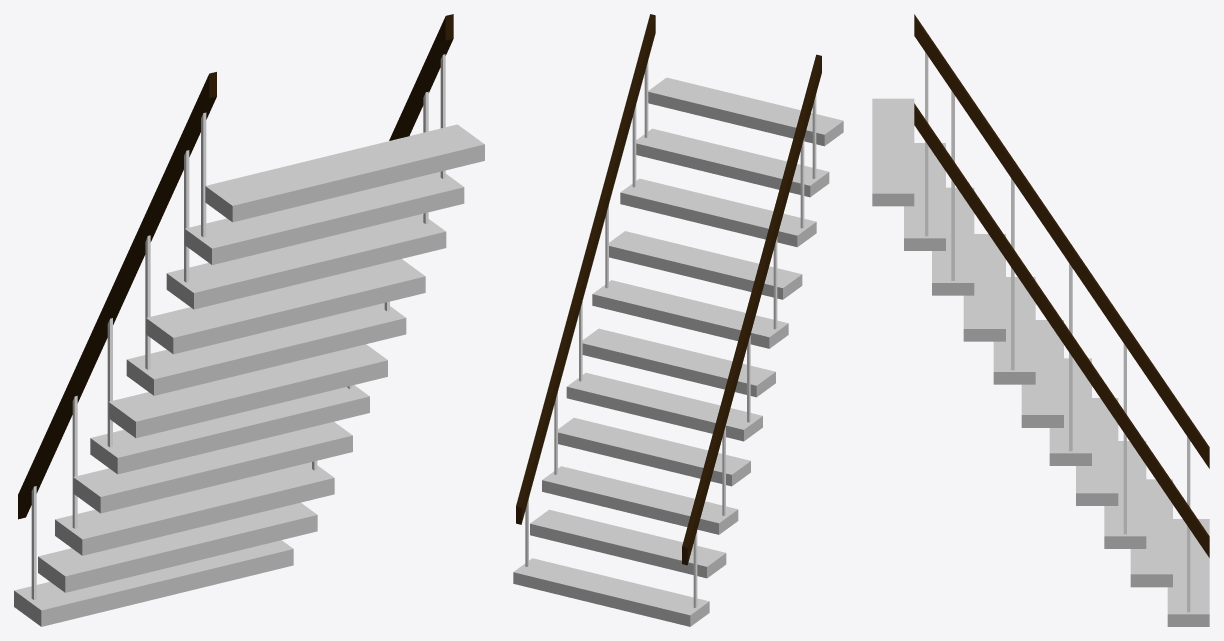
Rendered from StairCase_01_4m_snaps001.fbx.
3 views of the same model, side by side, from view 1: azimuth 30°, elevation 25°; view 2: azimuth 150°, elevation 25°; view 3: azimuth 270°, elevation 25° (orthographic). The views are drawn at different scales.
Parts seen in each view (by area): view 1: StairCase_01_4m_snaps001_frag_038, StairCase_01_4m_snaps001_frag_036, StairCase_01_4m_snaps001_frag_017, StairCase_01_4m_snaps001_frag_039, StairCase_01_4m_snaps001_frag_016, StairCase_01_4m_snaps001_frag_057, StairCase_01_4m_snaps001_frag_032, StairCase_01_4m_snaps001_frag_037, StairCase_01_4m_snaps001_frag_066, StairCase_01_4m_snaps001_frag_060, StairCase_01_4m_snaps001_frag_067, StairCase_01_4m_snaps001_frag_048 (+22 smaller); view 2: StairCase_01_4m_snaps001_frag_017, StairCase_01_4m_snaps001_frag_038, StairCase_01_4m_snaps001_frag_036, StairCase_01_4m_snaps001_frag_016, StairCase_01_4m_snaps001_frag_003, StairCase_01_4m_snaps001_frag_039, StairCase_01_4m_snaps001_frag_066, StairCase_01_4m_snaps001_frag_048, StairCase_01_4m_snaps001_frag_049, StairCase_01_4m_snaps001_frag_022, StairCase_01_4m_snaps001_frag_057, StairCase_01_4m_snaps001_frag_032 (+23 smaller); view 3: StairCase_01_4m_snaps001_frag_017, StairCase_01_4m_snaps001_frag_038, StairCase_01_4m_snaps001_frag_016, StairCase_01_4m_snaps001_frag_066, StairCase_01_4m_snaps001_frag_039, StairCase_01_4m_snaps001_frag_047, StairCase_01_4m_snaps001_frag_036, StairCase_01_4m_snaps001_frag_020, StairCase_01_4m_snaps001_frag_022, StairCase_01_4m_snaps001_frag_048, StairCase_01_4m_snaps001_frag_067, StairCase_01_4m_snaps001_frag_003 (+19 smaller).
Boxes of the visible parts, x1,y1,x2,y2 form: StairCase_01_4m_snaps001_frag_038: (184,175,464,264); StairCase_01_4m_snaps001_frag_036: (166,225,440,309); StairCase_01_4m_snaps001_frag_017: (14,540,293,626); StairCase_01_4m_snaps001_frag_039: (205,159,470,222); StairCase_01_4m_snaps001_frag_016: (113,502,317,574); StairCase_01_4m_snaps001_frag_057: (55,498,222,555); StairCase_01_4m_snaps001_frag_032: (129,333,292,395); StairCase_01_4m_snaps001_frag_037: (155,296,321,354); StairCase_01_4m_snaps001_frag_066: (268,259,425,322); StairCase_01_4m_snaps001_frag_060: (73,464,232,513); StairCase_01_4m_snaps001_frag_067: (262,303,406,361); StairCase_01_4m_snaps001_frag_048: (227,385,369,444); StairCase_01_4m_snaps001_frag_017: (513,558,709,626); StairCase_01_4m_snaps001_frag_038: (636,128,829,197); StairCase_01_4m_snaps001_frag_036: (643,179,816,247); StairCase_01_4m_snaps001_frag_016: (530,510,684,572); StairCase_01_4m_snaps001_frag_003: (542,470,653,518); StairCase_01_4m_snaps001_frag_039: (710,88,843,146); StairCase_01_4m_snaps001_frag_066: (609,231,705,278); StairCase_01_4m_snaps001_frag_048: (566,372,680,417); StairCase_01_4m_snaps001_frag_049: (582,334,690,377); StairCase_01_4m_snaps001_frag_022: (648,77,745,118); StairCase_01_4m_snaps001_frag_057: (641,485,738,534); StairCase_01_4m_snaps001_frag_032: (684,300,788,347); StairCase_01_4m_snaps001_frag_017: (1167,519,1209,626); StairCase_01_4m_snaps001_frag_038: (904,143,945,250); StairCase_01_4m_snaps001_frag_016: (1130,498,1172,587); StairCase_01_4m_snaps001_frag_066: (963,278,1005,341); StairCase_01_4m_snaps001_frag_039: (872,98,914,169); StairCase_01_4m_snaps001_frag_047: (1050,304,1155,467); StairCase_01_4m_snaps001_frag_036: (932,187,974,280); StairCase_01_4m_snaps001_frag_020: (914,103,1016,255); StairCase_01_4m_snaps001_frag_022: (872,141,914,206); StairCase_01_4m_snaps001_frag_048: (1049,404,1091,465); StairCase_01_4m_snaps001_frag_067: (993,325,1035,384); StairCase_01_4m_snaps001_frag_003: (1104,476,1146,548).
Bounding box in the file's own units: 78.74 × 201 × 118.
